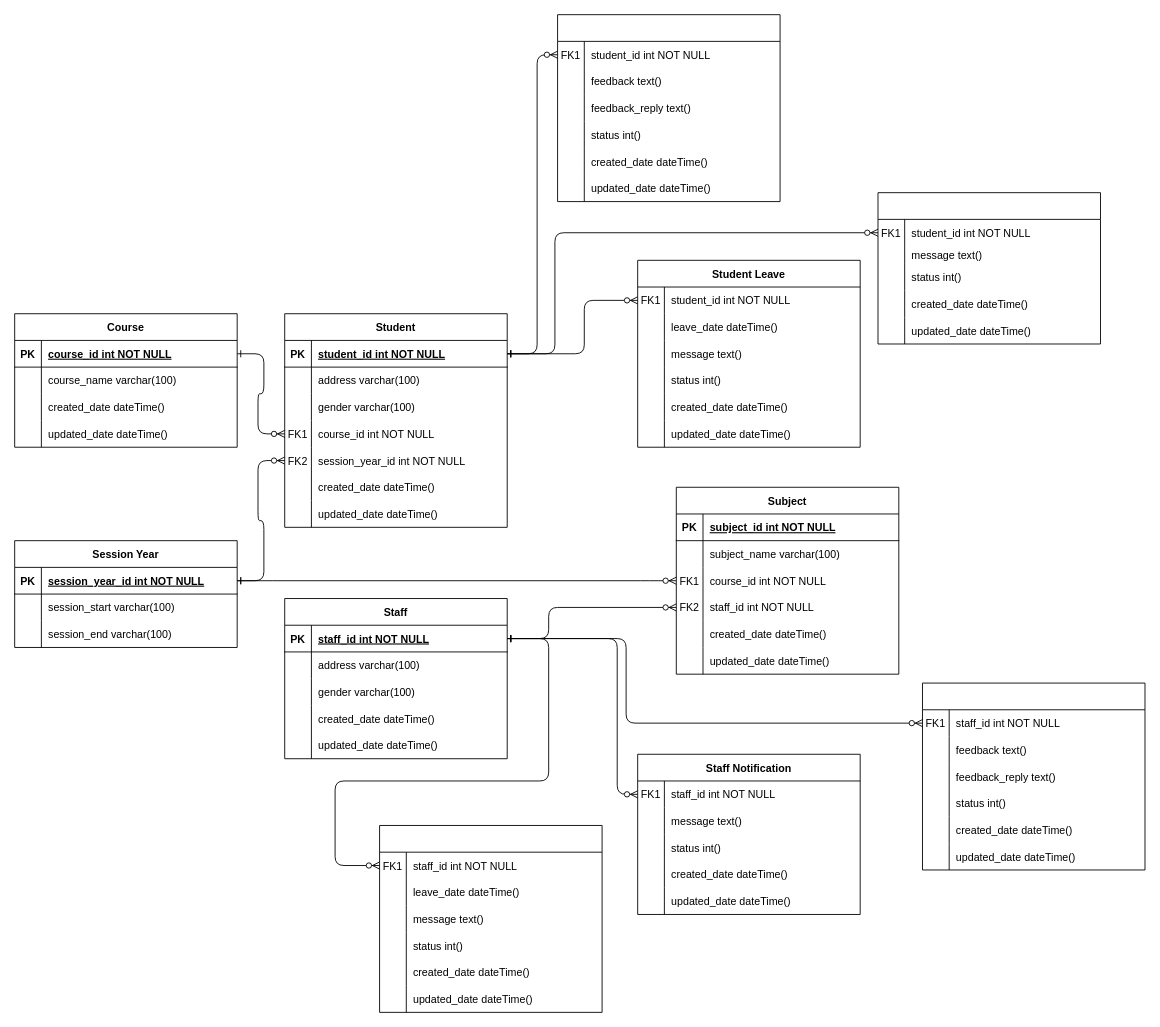
The diagram is 1160 pixels wide and 1027 high, and some of its shapes have lost their labels. The shapes that lost their labels are listed below. From the top down, each one's box as (x1, y1, x2, y2) in pixels, then its label:
(557, 14, 780, 202): Student feedback
(877, 192, 1100, 344): Student Notification
(922, 682, 1145, 870): Staff feedback
(379, 825, 602, 1012): Staff Leave
